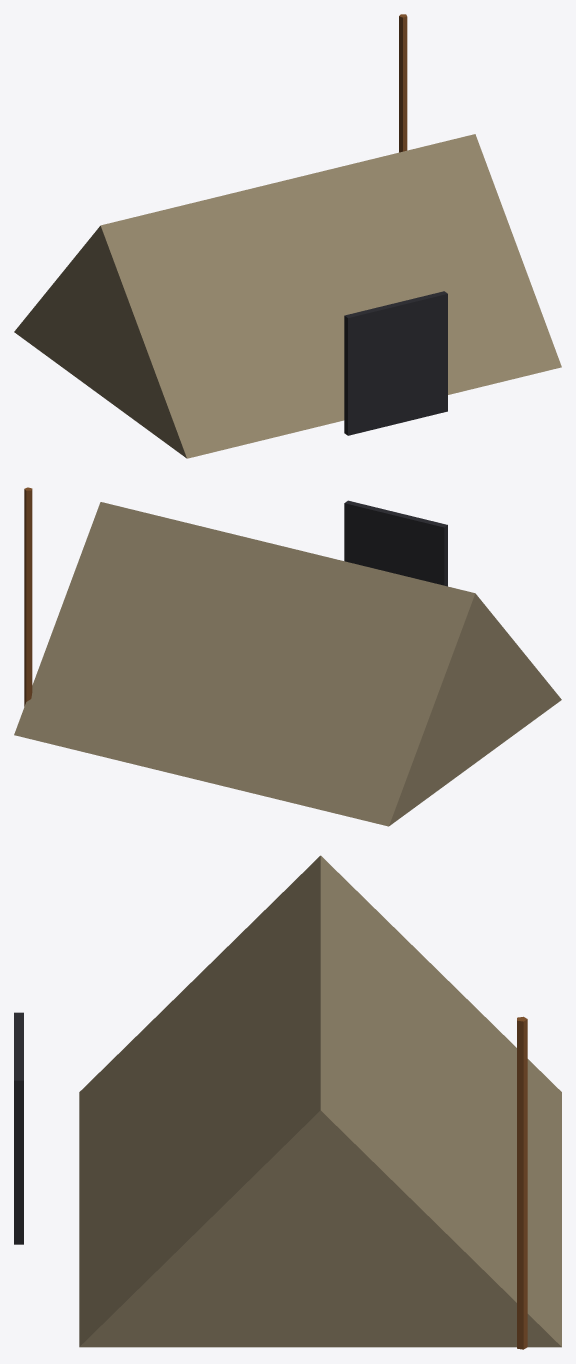
File: survivor_tent.glb
The picture shows the model from 3 angles, top to bottom: view 1: azimuth 30°, elevation 25°; view 2: azimuth 150°, elevation 25°; view 3: azimuth 270°, elevation 25°; orthographic projection. The views are drawn at different scales.
Parts seen in each view (by area): view 1: survivor_tent; view 2: survivor_tent; view 3: survivor_tent.
Boxes of the visible parts, <box> form: survivor_tent: <box>14,14,561,458</box>; survivor_tent: <box>14,487,561,826</box>; survivor_tent: <box>14,855,561,1349</box>.
Bounding box in the file's own units: 3.03 × 1.8 × 2.73.
